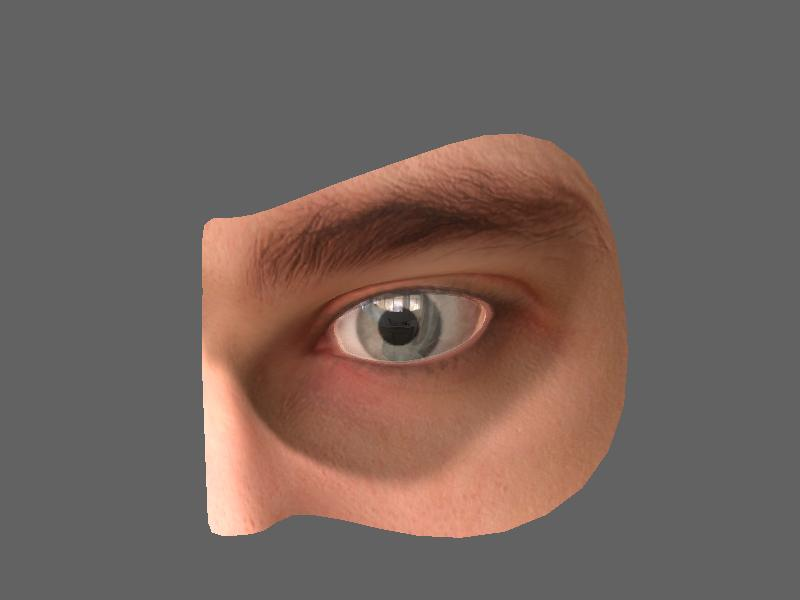iris: (349, 292, 449, 362)
